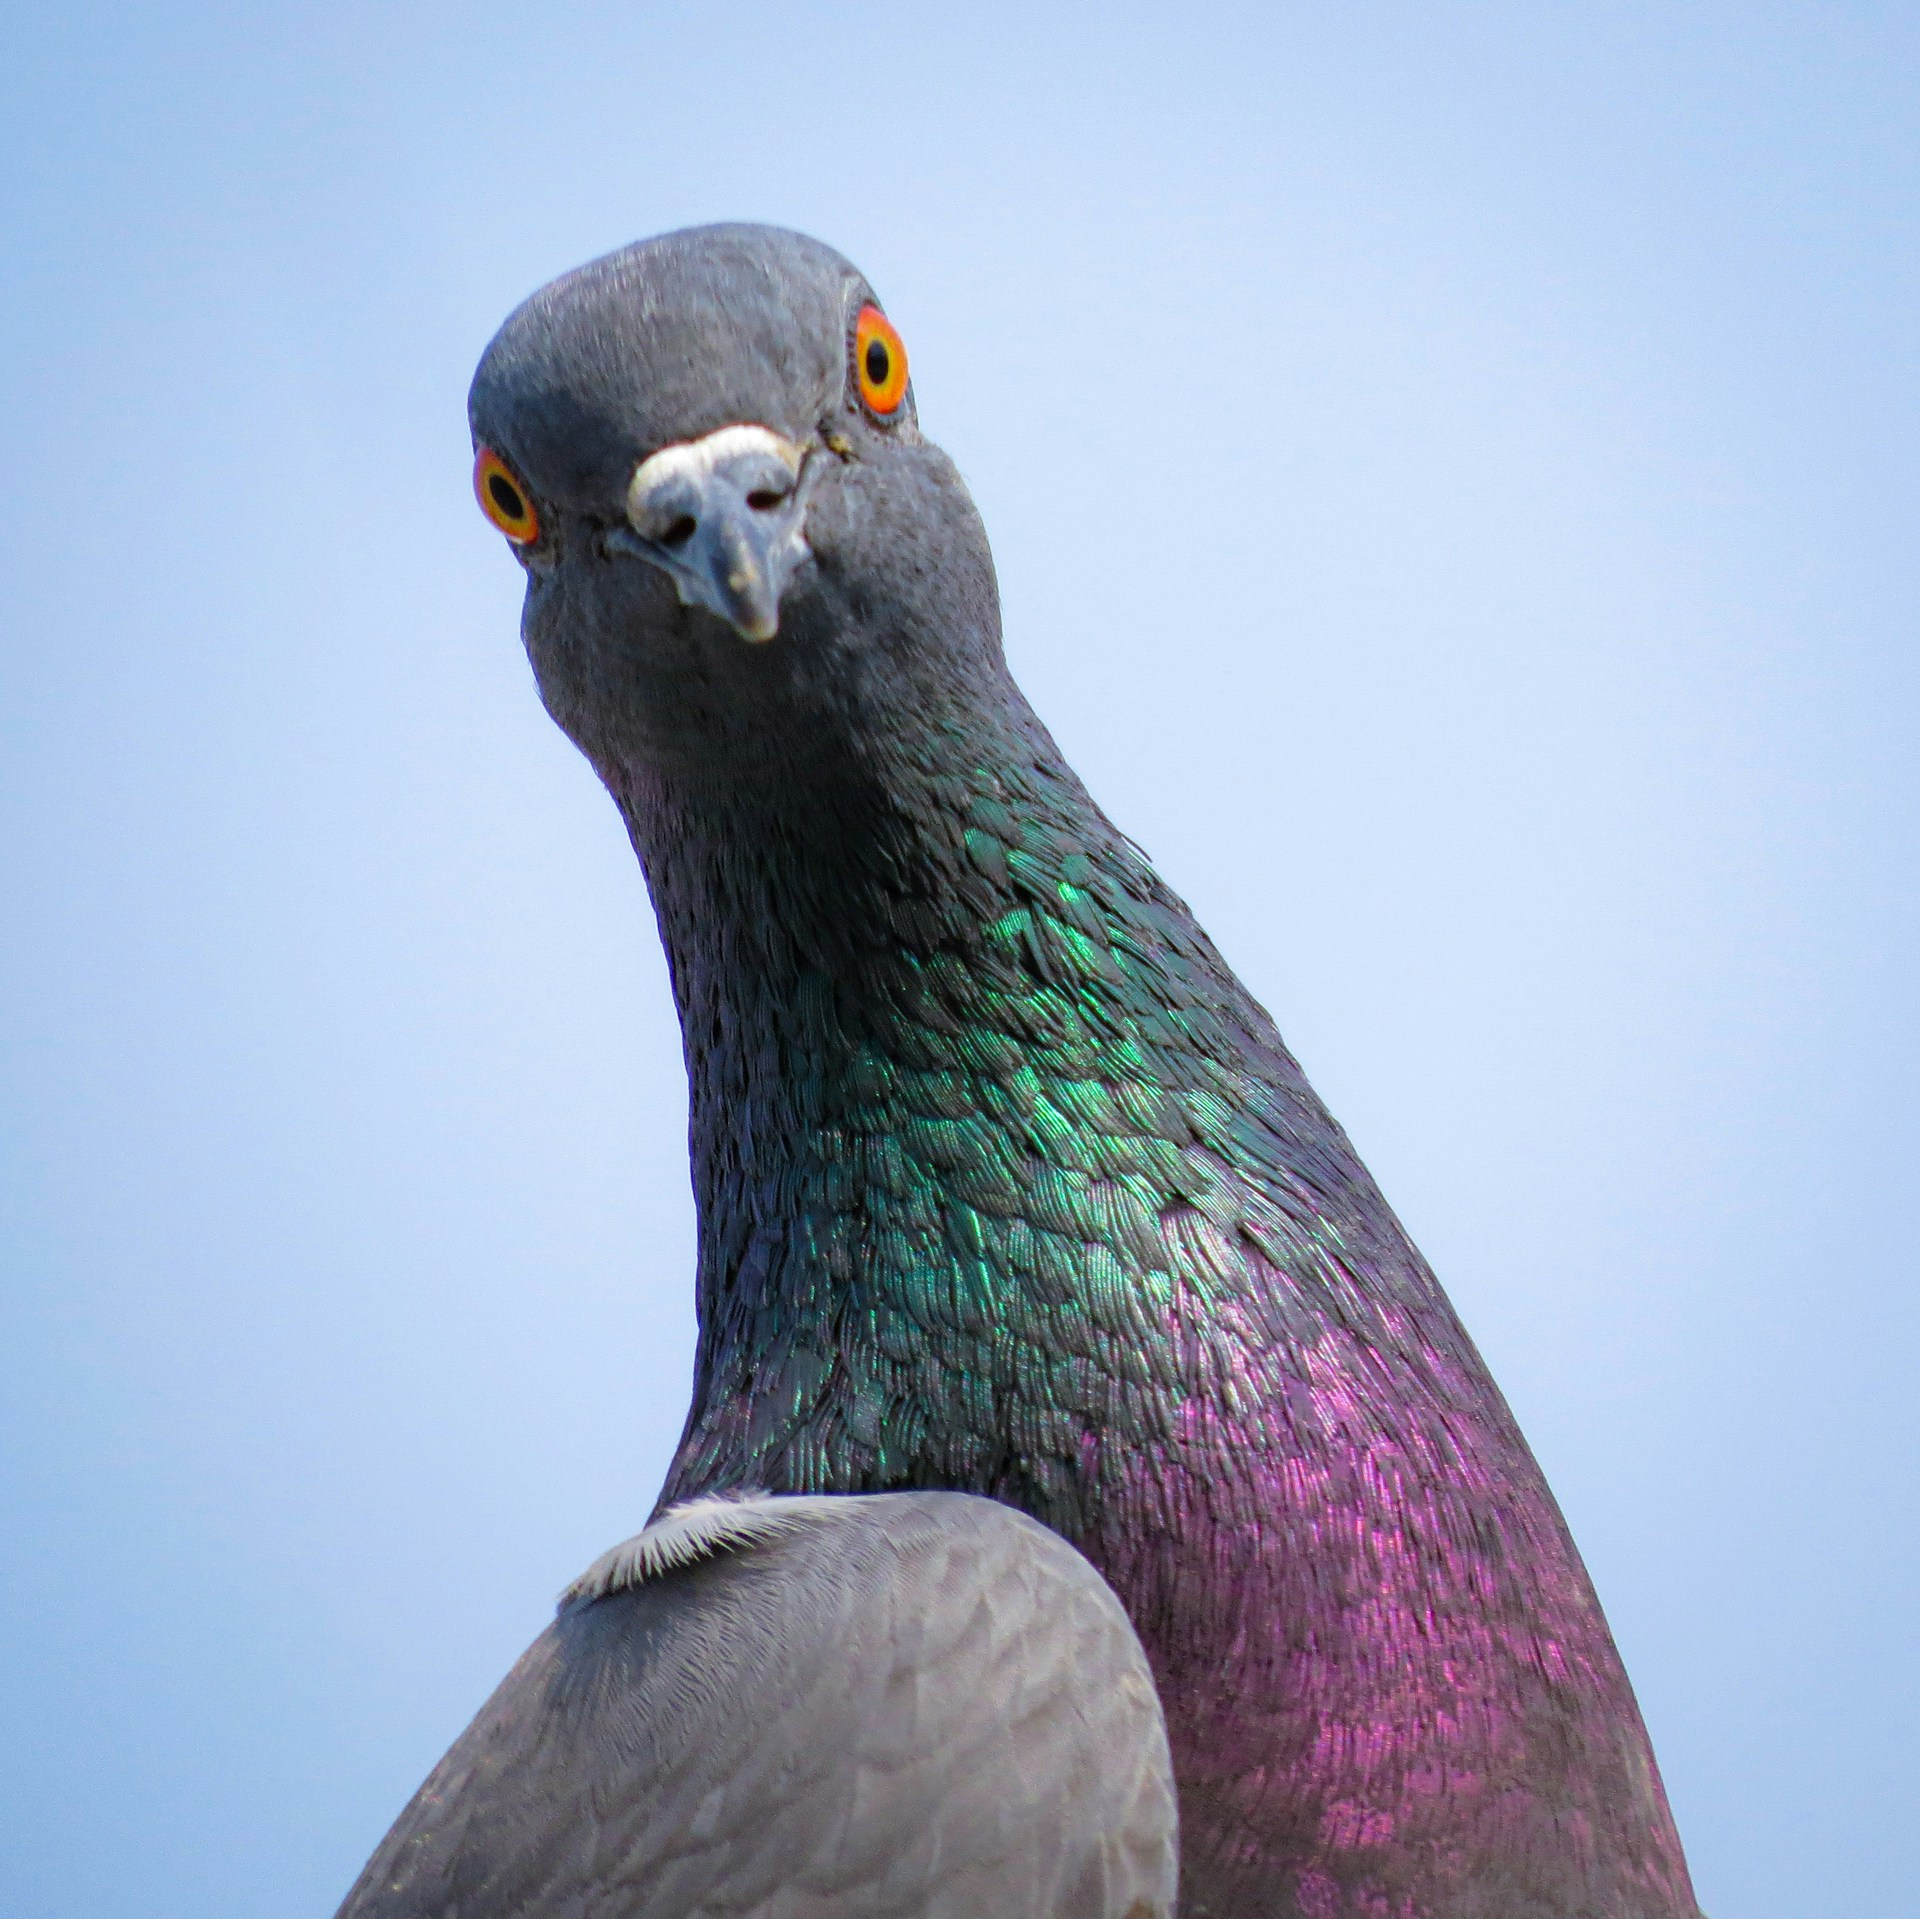pigeon: (256, 211, 1736, 1919)
